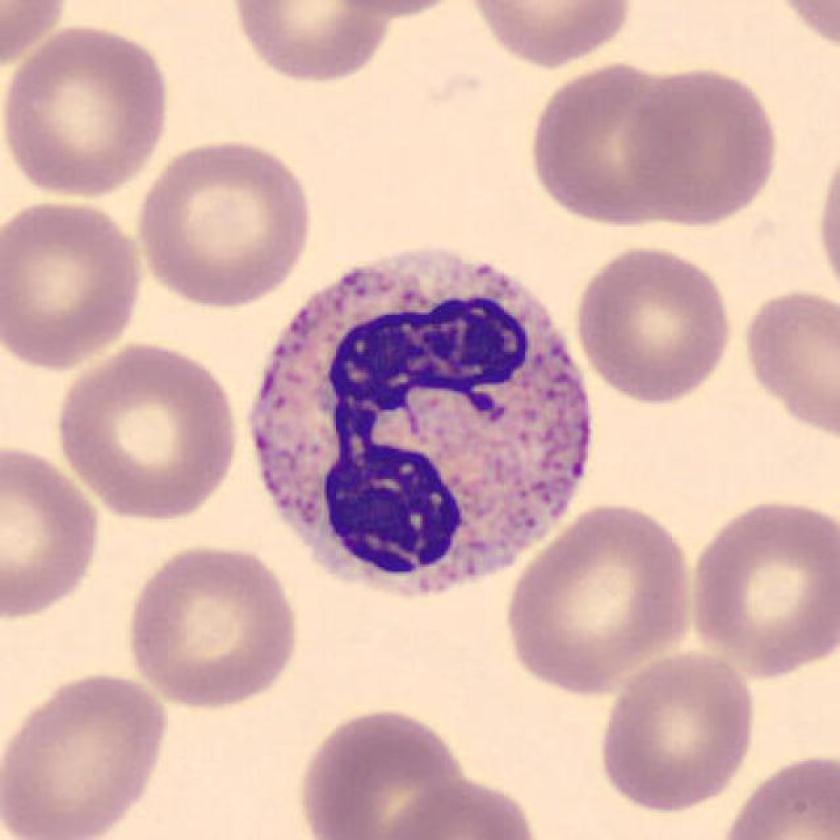neutrophil: (252, 253, 592, 596)
